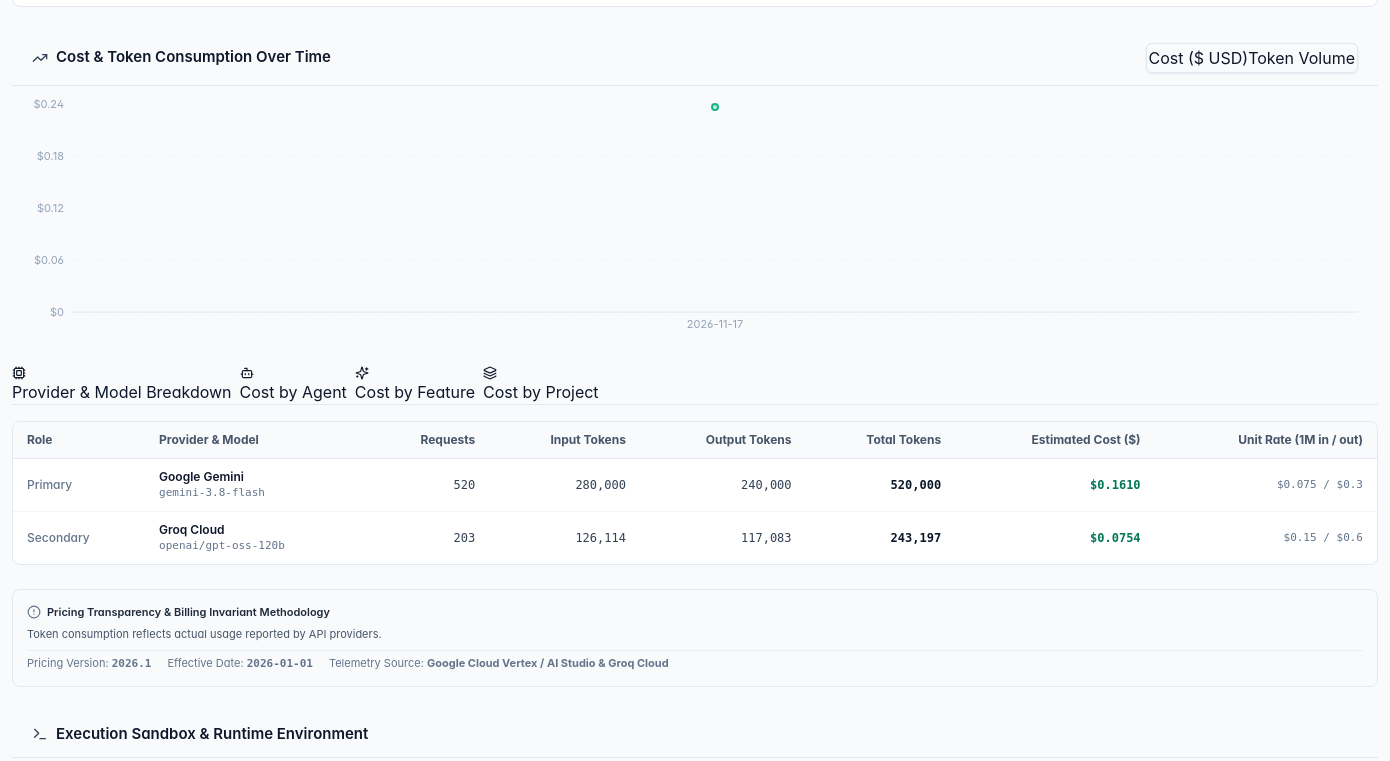
Test: SettingsPage AI Usage & Cost Redesign › allows switching between breakdown tabs (models, agents, features, projects)
This screenshot has width=1390, height=761.
Later steps or results of the test are not shown.
(page scrolled)
Expected: the text "Provider & Model Breakdown" is shown, [12,382,232,402]
Switch to Cost by Agent
Click the button "Cost by Agent".
click(293, 385)  # box [240,366,347,404]
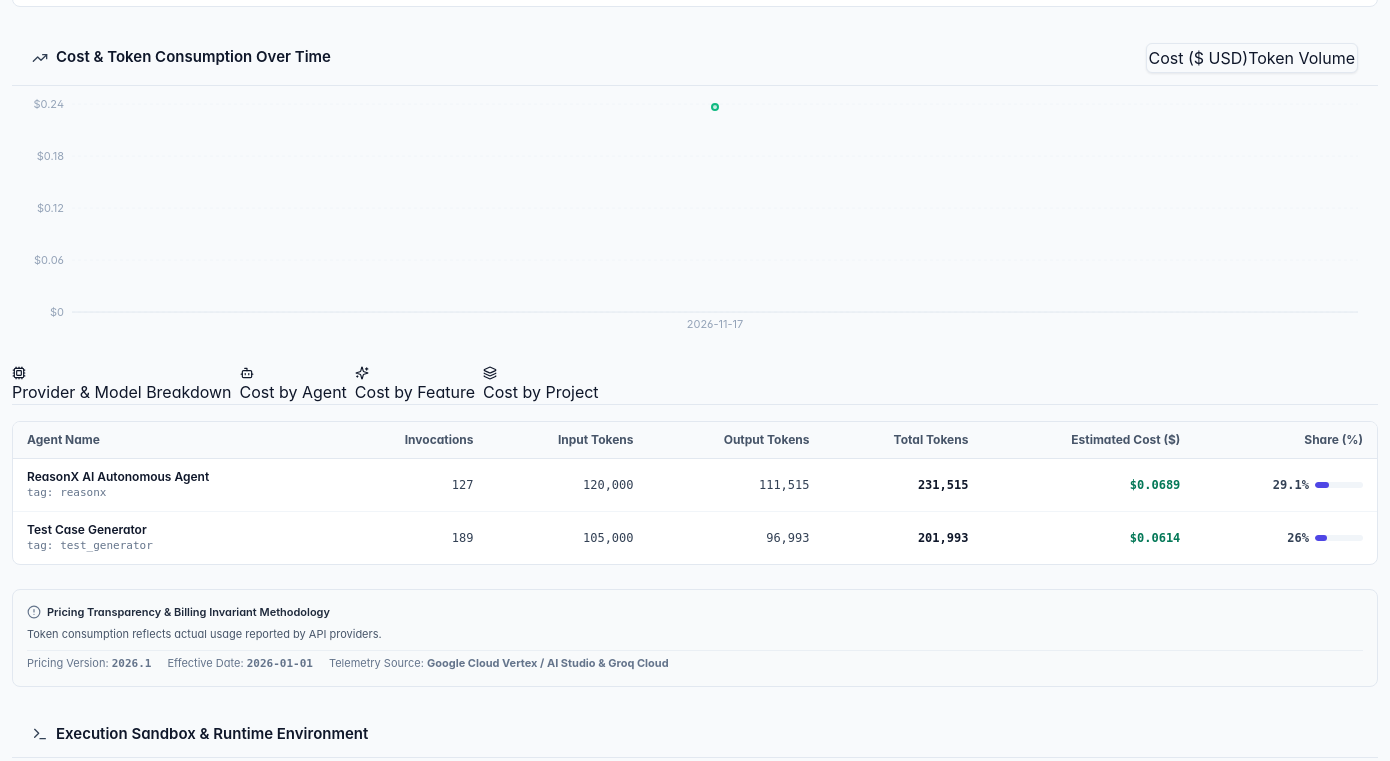
Expected: the text "ReasonX AI Autonomous Agent" is shown, [27,469,209,484]
Expected: the text "Test Case Generator" is shown, [27,522,147,537]
Switch to Cost by Feature
Click the button "Cost by Feature".
click(415, 385)  # box [355,366,475,404]
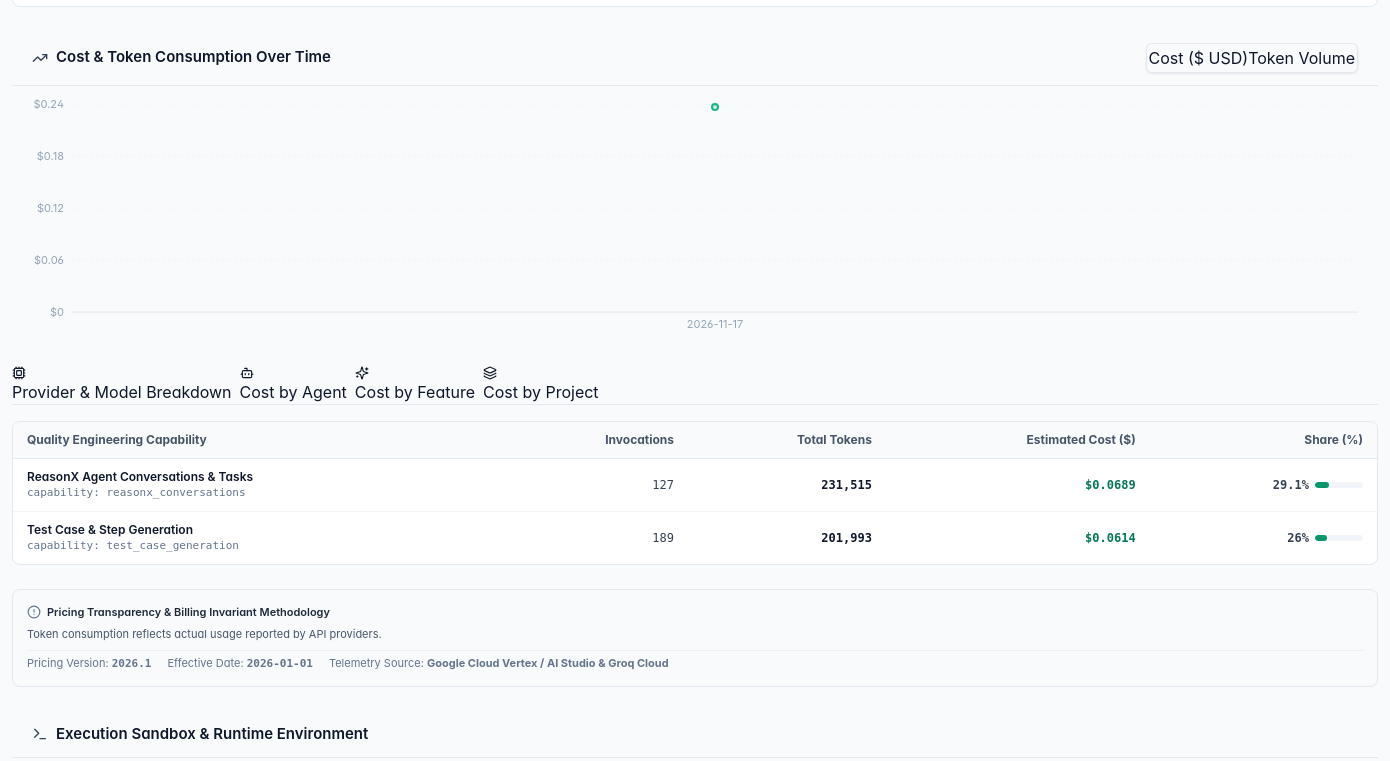
Expected: the text "ReasonX Agent Conversations & Tasks" is shown, [27,469,253,484]
Expected: the text "Test Case & Step Generation" is shown, [27,522,193,537]
